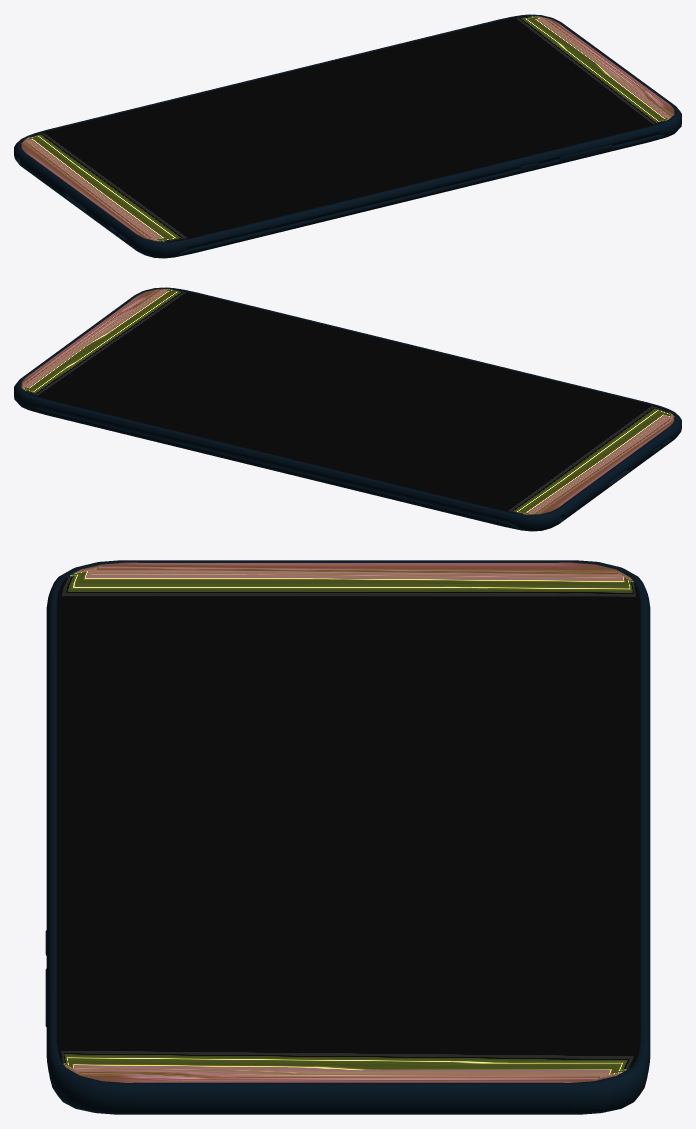
Rendered from phone.glb.
3 views of the same model, one above another, from view 1: azimuth 30°, elevation 25°; view 2: azimuth 150°, elevation 25°; view 3: azimuth 270°, elevation 25° (orthographic). The views are drawn at different scales.
Visible parts, largest first — view 1: 02 tela, Asus Zenfone Max pro; view 2: 02 tela, Asus Zenfone Max pro; view 3: 02 tela, Asus Zenfone Max pro.
Part boxes in pixels (x1,y1,x2,y2): 02 tela: (21,16,674,241); Asus Zenfone Max pro: (14,14,681,258); 02 tela: (21,289,674,514); Asus Zenfone Max pro: (14,287,681,531); 02 tela: (56,562,640,1082); Asus Zenfone Max pro: (46,560,650,1114).
Bounding box in the file's own units: 0.1566 × 0.00497 × 0.0753.
5 materials, 1 textured.
